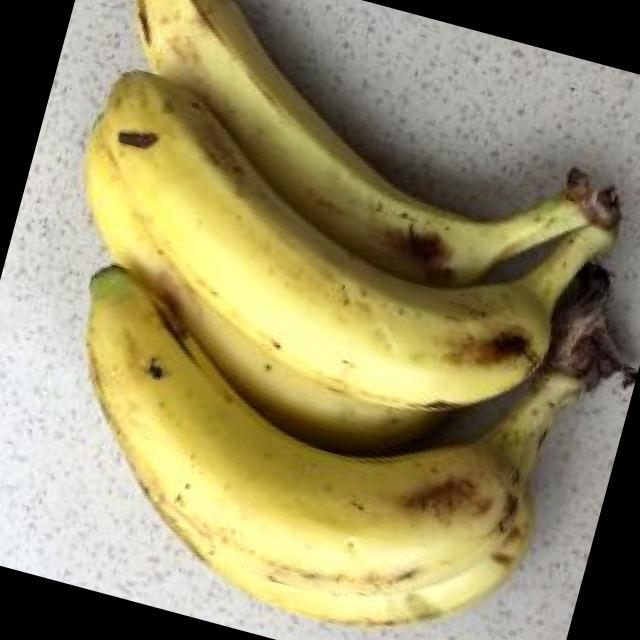banana: (154, 85, 545, 640)
